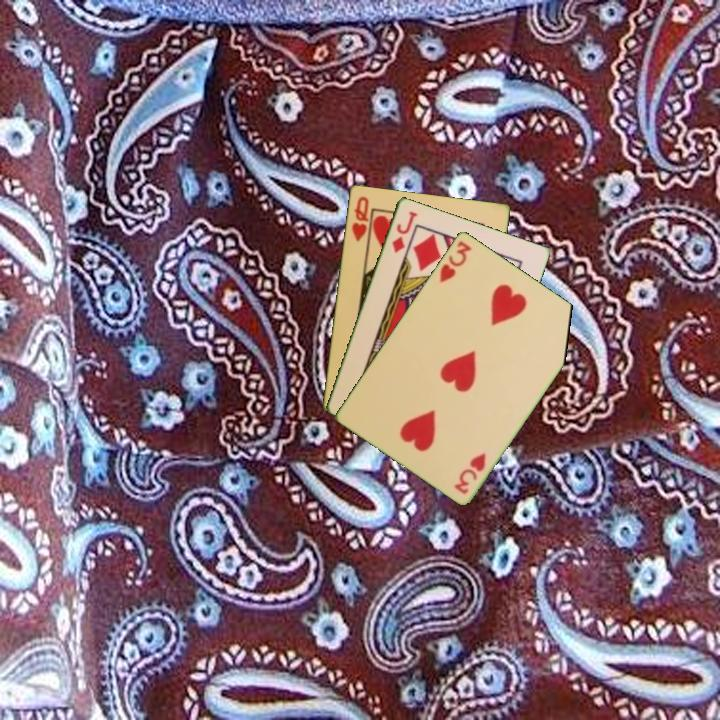3h: (436, 237, 475, 285), (451, 449, 489, 497)
Jd: (388, 207, 420, 256)
Qh: (348, 193, 371, 244)
